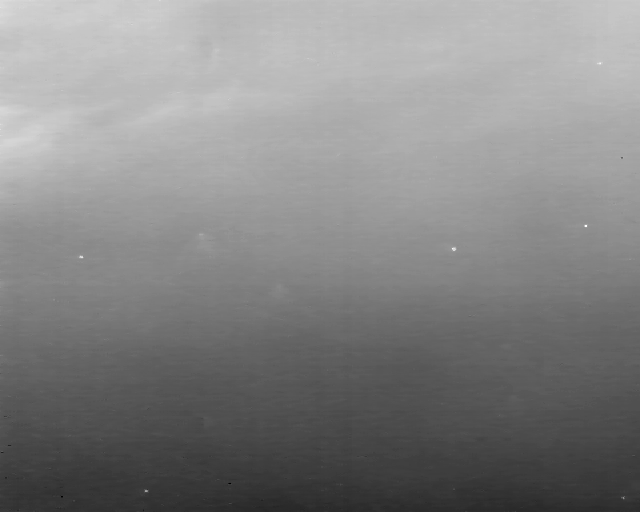Target: (452, 248, 458, 253), (78, 256, 85, 260), (145, 490, 150, 494), (621, 497, 626, 501), (598, 63, 604, 66), (585, 225, 589, 229)
